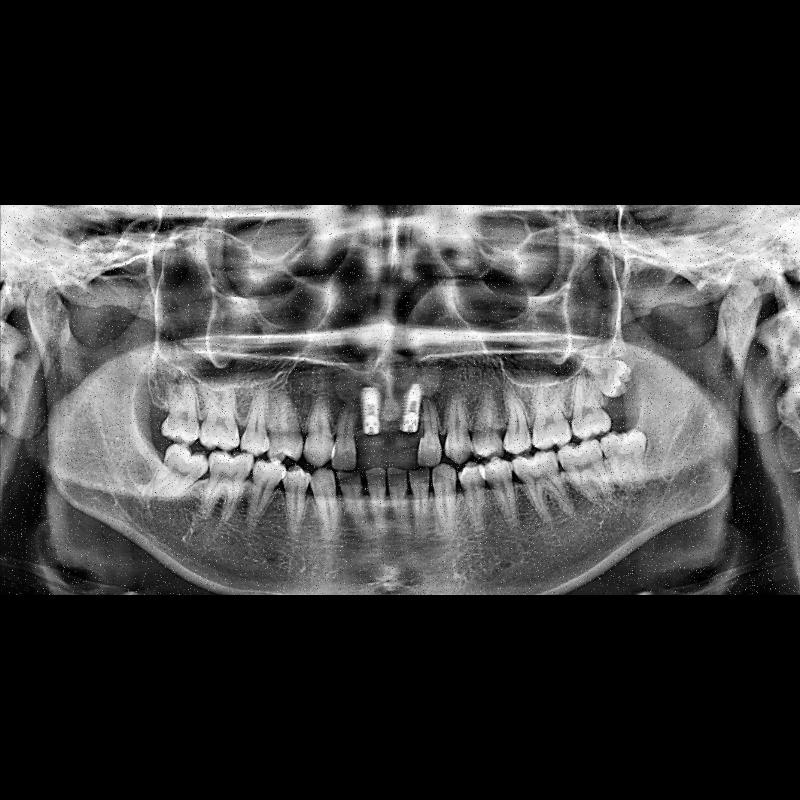osstem: (397, 378, 431, 439), (354, 384, 384, 436)
